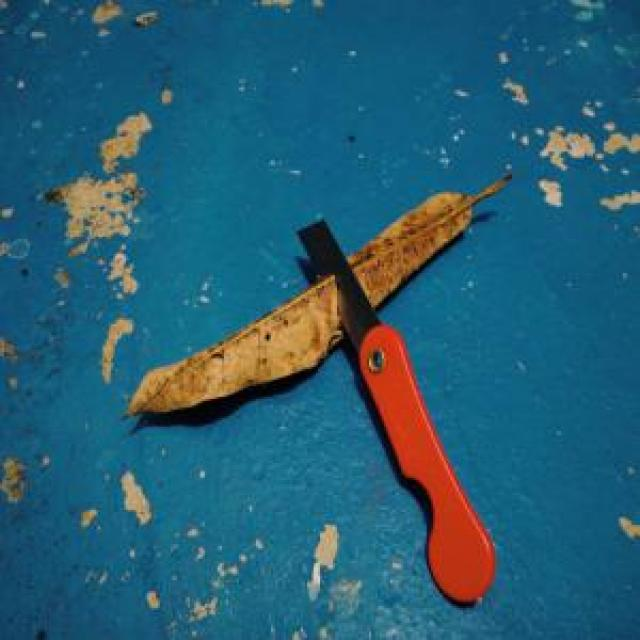knife: (294, 220, 500, 605)
